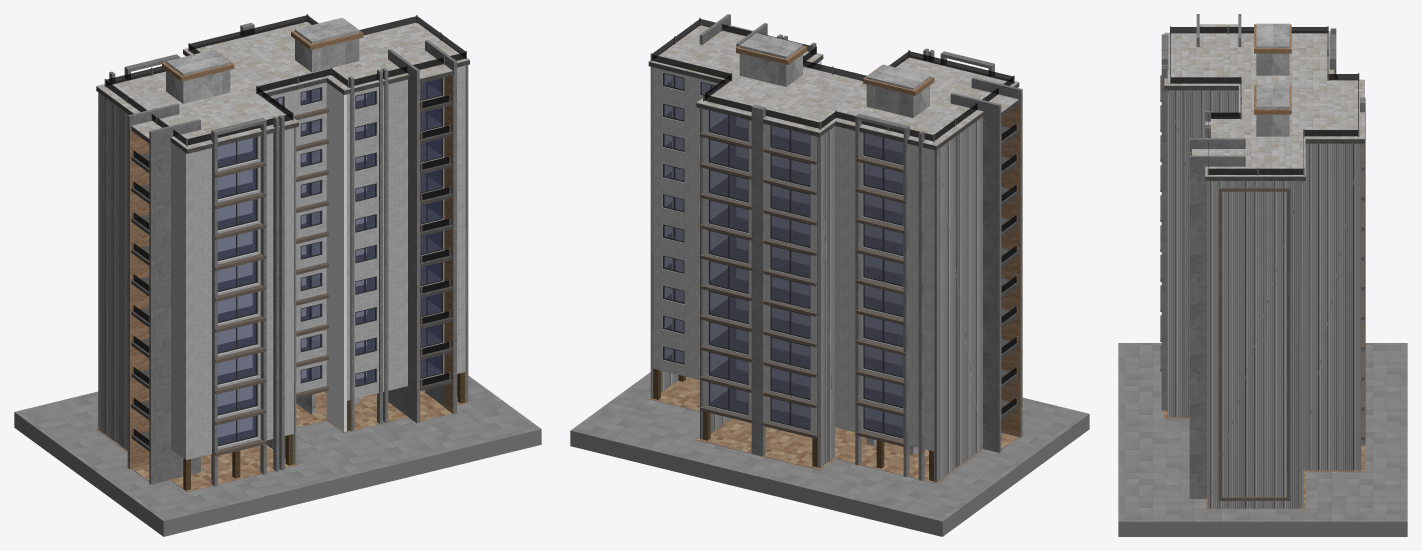
3 renders of one model, left to right at view 1: azimuth 30°, elevation 25°; view 2: azimuth 150°, elevation 25°; view 3: azimuth 270°, elevation 25°, orthographic. The views are drawn at different scales.
Visible parts, largest first — view 1: Line001, Box023, Shape012_16 - Matte Plastic_0, Box041, Box020, Box022, Box038, Line004, Box019, Box178, Line002, Shape013_02 - Default_0 (+35 smaller); view 2: Line001, Box023, Box041, Shape012_16 - Matte Plastic_0, Line004, Box022, Box021, Shape013_02 - Default_0, Box042, Box164, Line005, Box179 (+48 smaller); view 3: Box039, Box023, Box040, Shape012_16 - Matte Plastic_0, Box037, Box001, Box022, Rectangle001, Line005, Box180, Box291, Box292 (+6 smaller).
Boxes of the visible parts, bbox=[...] form: Line001: bbox=[171, 65, 465, 459]; Box023: bbox=[14, 375, 541, 522]; Shape012_16 - Matte Plastic_0: bbox=[96, 20, 469, 149]; Box041: bbox=[98, 92, 128, 450]; Box020: bbox=[149, 119, 200, 484]; Box022: bbox=[14, 413, 541, 536]; Box038: bbox=[326, 82, 346, 431]; Line004: bbox=[217, 92, 366, 437]; Box019: bbox=[388, 49, 419, 423]; Box178: bbox=[129, 129, 149, 469]; Line002: bbox=[211, 117, 266, 486]; Shape013_02 - Default_0: bbox=[96, 390, 469, 491]; Line001: bbox=[653, 67, 933, 451]; Box023: bbox=[570, 372, 1089, 522]; Box041: bbox=[934, 117, 982, 481]; Shape012_16 - Matte Plastic_0: bbox=[648, 25, 1019, 146]; Line004: bbox=[672, 76, 902, 426]; Box022: bbox=[570, 415, 1089, 536]; Box021: bbox=[950, 92, 1001, 452]; Shape013_02 - Default_0: bbox=[649, 377, 1018, 483]; Box042: bbox=[817, 126, 834, 467]; Box164: bbox=[751, 105, 765, 456]; Line005: bbox=[652, 19, 1013, 141]; Box179: bbox=[1001, 102, 1020, 437]; Box039: bbox=[1207, 181, 1303, 508]; Box023: bbox=[1118, 343, 1407, 522]; Box040: bbox=[1303, 143, 1361, 470]; Shape012_16 - Matte Plastic_0: bbox=[1164, 24, 1364, 176]; Box037: bbox=[1167, 90, 1238, 417]; Box001: bbox=[1189, 155, 1245, 498]; Box022: bbox=[1118, 523, 1407, 536]; Rectangle001: bbox=[1218, 187, 1290, 500]; Line005: bbox=[1170, 27, 1358, 174]; Box180: bbox=[1161, 67, 1167, 410]; Box291: bbox=[1256, 23, 1289, 75]; Box292: bbox=[1256, 84, 1289, 136].
Size of the model in its own units: 38.39 by 37.82 by 26.27.
19 materials, 12 textured.
